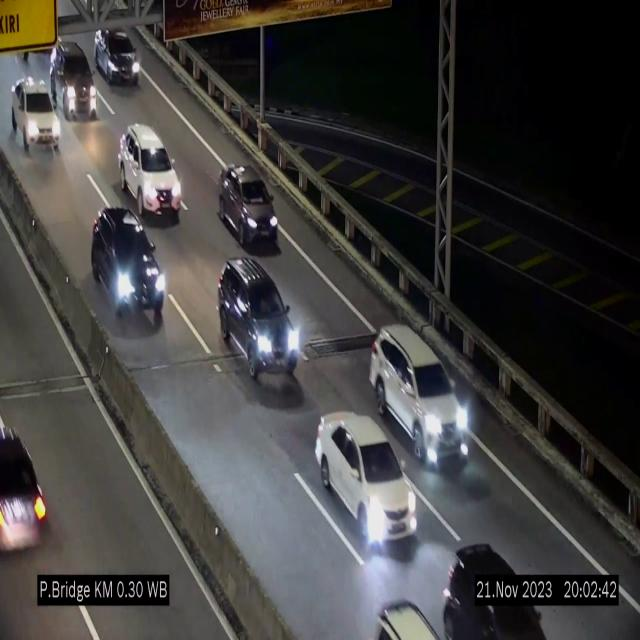Car: (369, 326, 471, 466), (315, 412, 417, 551), (434, 532, 560, 640), (218, 258, 300, 388), (0, 401, 55, 579), (92, 207, 166, 329), (119, 124, 182, 218), (218, 163, 278, 249), (48, 46, 112, 126), (6, 76, 68, 150), (94, 29, 140, 86)
